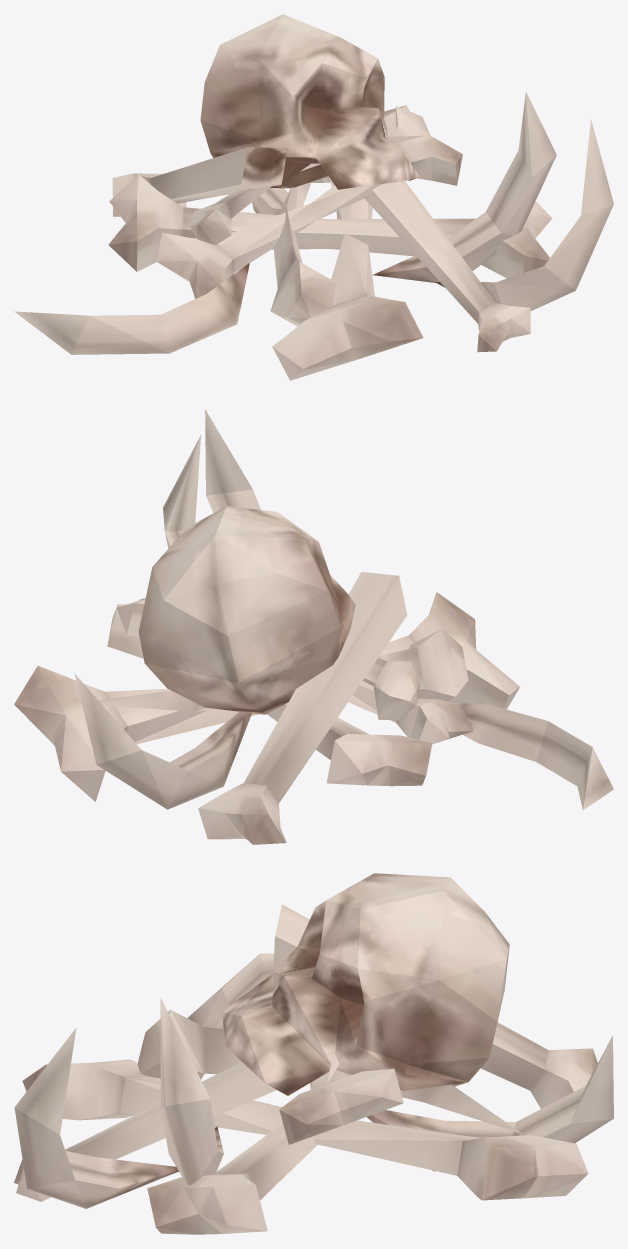
The model's file is bones.glb.
The picture shows the model from 3 angles, top to bottom: view 1: azimuth 30°, elevation 25°; view 2: azimuth 150°, elevation 25°; view 3: azimuth 270°, elevation 25°; orthographic projection. The views are drawn at different scales.
Visible parts, largest first — view 1: Object_2; view 2: Object_2; view 3: Object_2.
Boxes of the visible parts, bbox=[...] form: Object_2: bbox=[14, 14, 613, 380]; Object_2: bbox=[14, 409, 613, 844]; Object_2: bbox=[14, 873, 613, 1234].
Size of the model in its own units: 85.93 by 40.99 by 75.4.
1 material, 1 textured.
